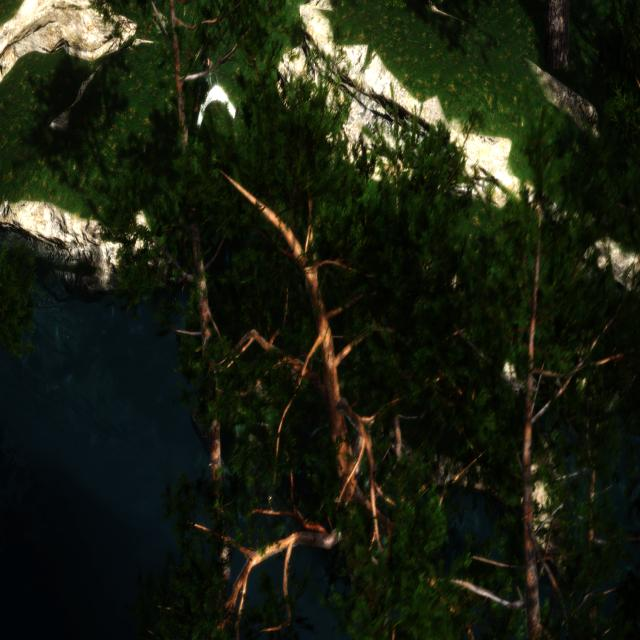Human: (188, 47, 242, 136)
